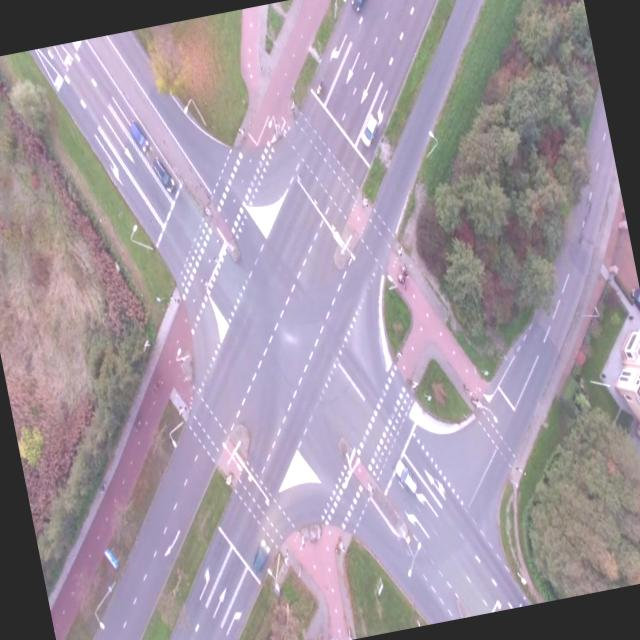car: (354, 109, 386, 150), (150, 155, 180, 196), (392, 458, 421, 498), (245, 540, 275, 576), (125, 118, 152, 154), (347, 0, 377, 14)
